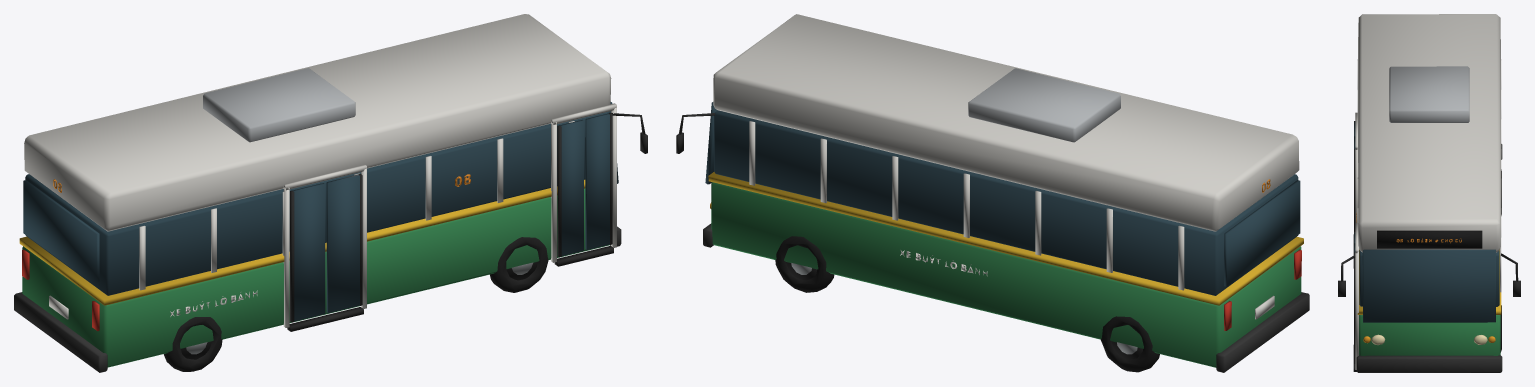
Rendered from xe_buyt.glb.
The picture shows the model from 3 angles, left to right: view 1: azimuth 30°, elevation 25°; view 2: azimuth 150°, elevation 25°; view 3: azimuth 270°, elevation 25°; orthographic projection. The views are drawn at different scales.
Parts seen in each view (by area): view 1: xe_buyt; view 2: xe_buyt; view 3: xe_buyt.
Boxes of the visible parts, x1,y1,x2,y2 form: xe_buyt: (14, 14, 647, 372); xe_buyt: (676, 14, 1309, 372); xe_buyt: (1338, 14, 1520, 372).
Bounding box in the file's own units: 8.42 × 3.23 × 2.93.
